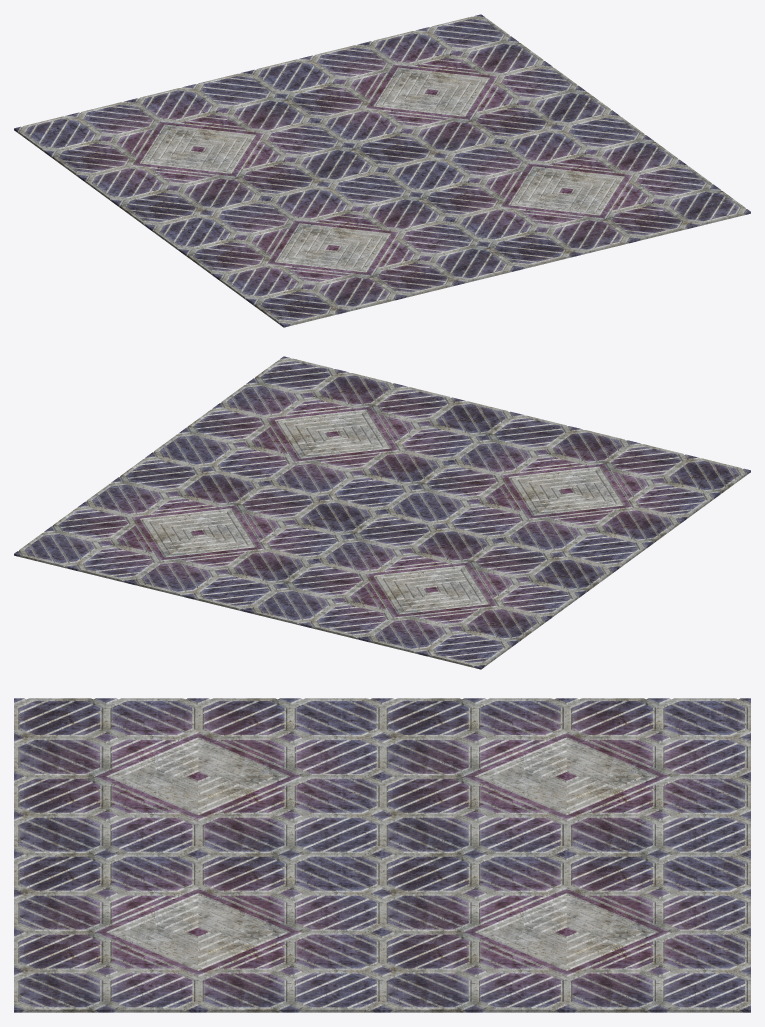
3 views of the same model, one above another, from view 1: azimuth 30°, elevation 25°; view 2: azimuth 150°, elevation 25°; view 3: azimuth 270°, elevation 25° (orthographic). The views are drawn at different scales.
Parts seen in each view (by area): view 1: n5r4-gmc01; view 2: n5r4-gmc01; view 3: n5r4-gmc01.
Boxes of the visible parts, box(x1,y1,x2,y2) form: n5r4-gmc01: box(14, 14, 750, 327); n5r4-gmc01: box(14, 356, 750, 669); n5r4-gmc01: box(14, 698, 750, 1012).
Bounding box in the file's own units: 40 × 0.1563 × 40.
1 material, 1 textured.
